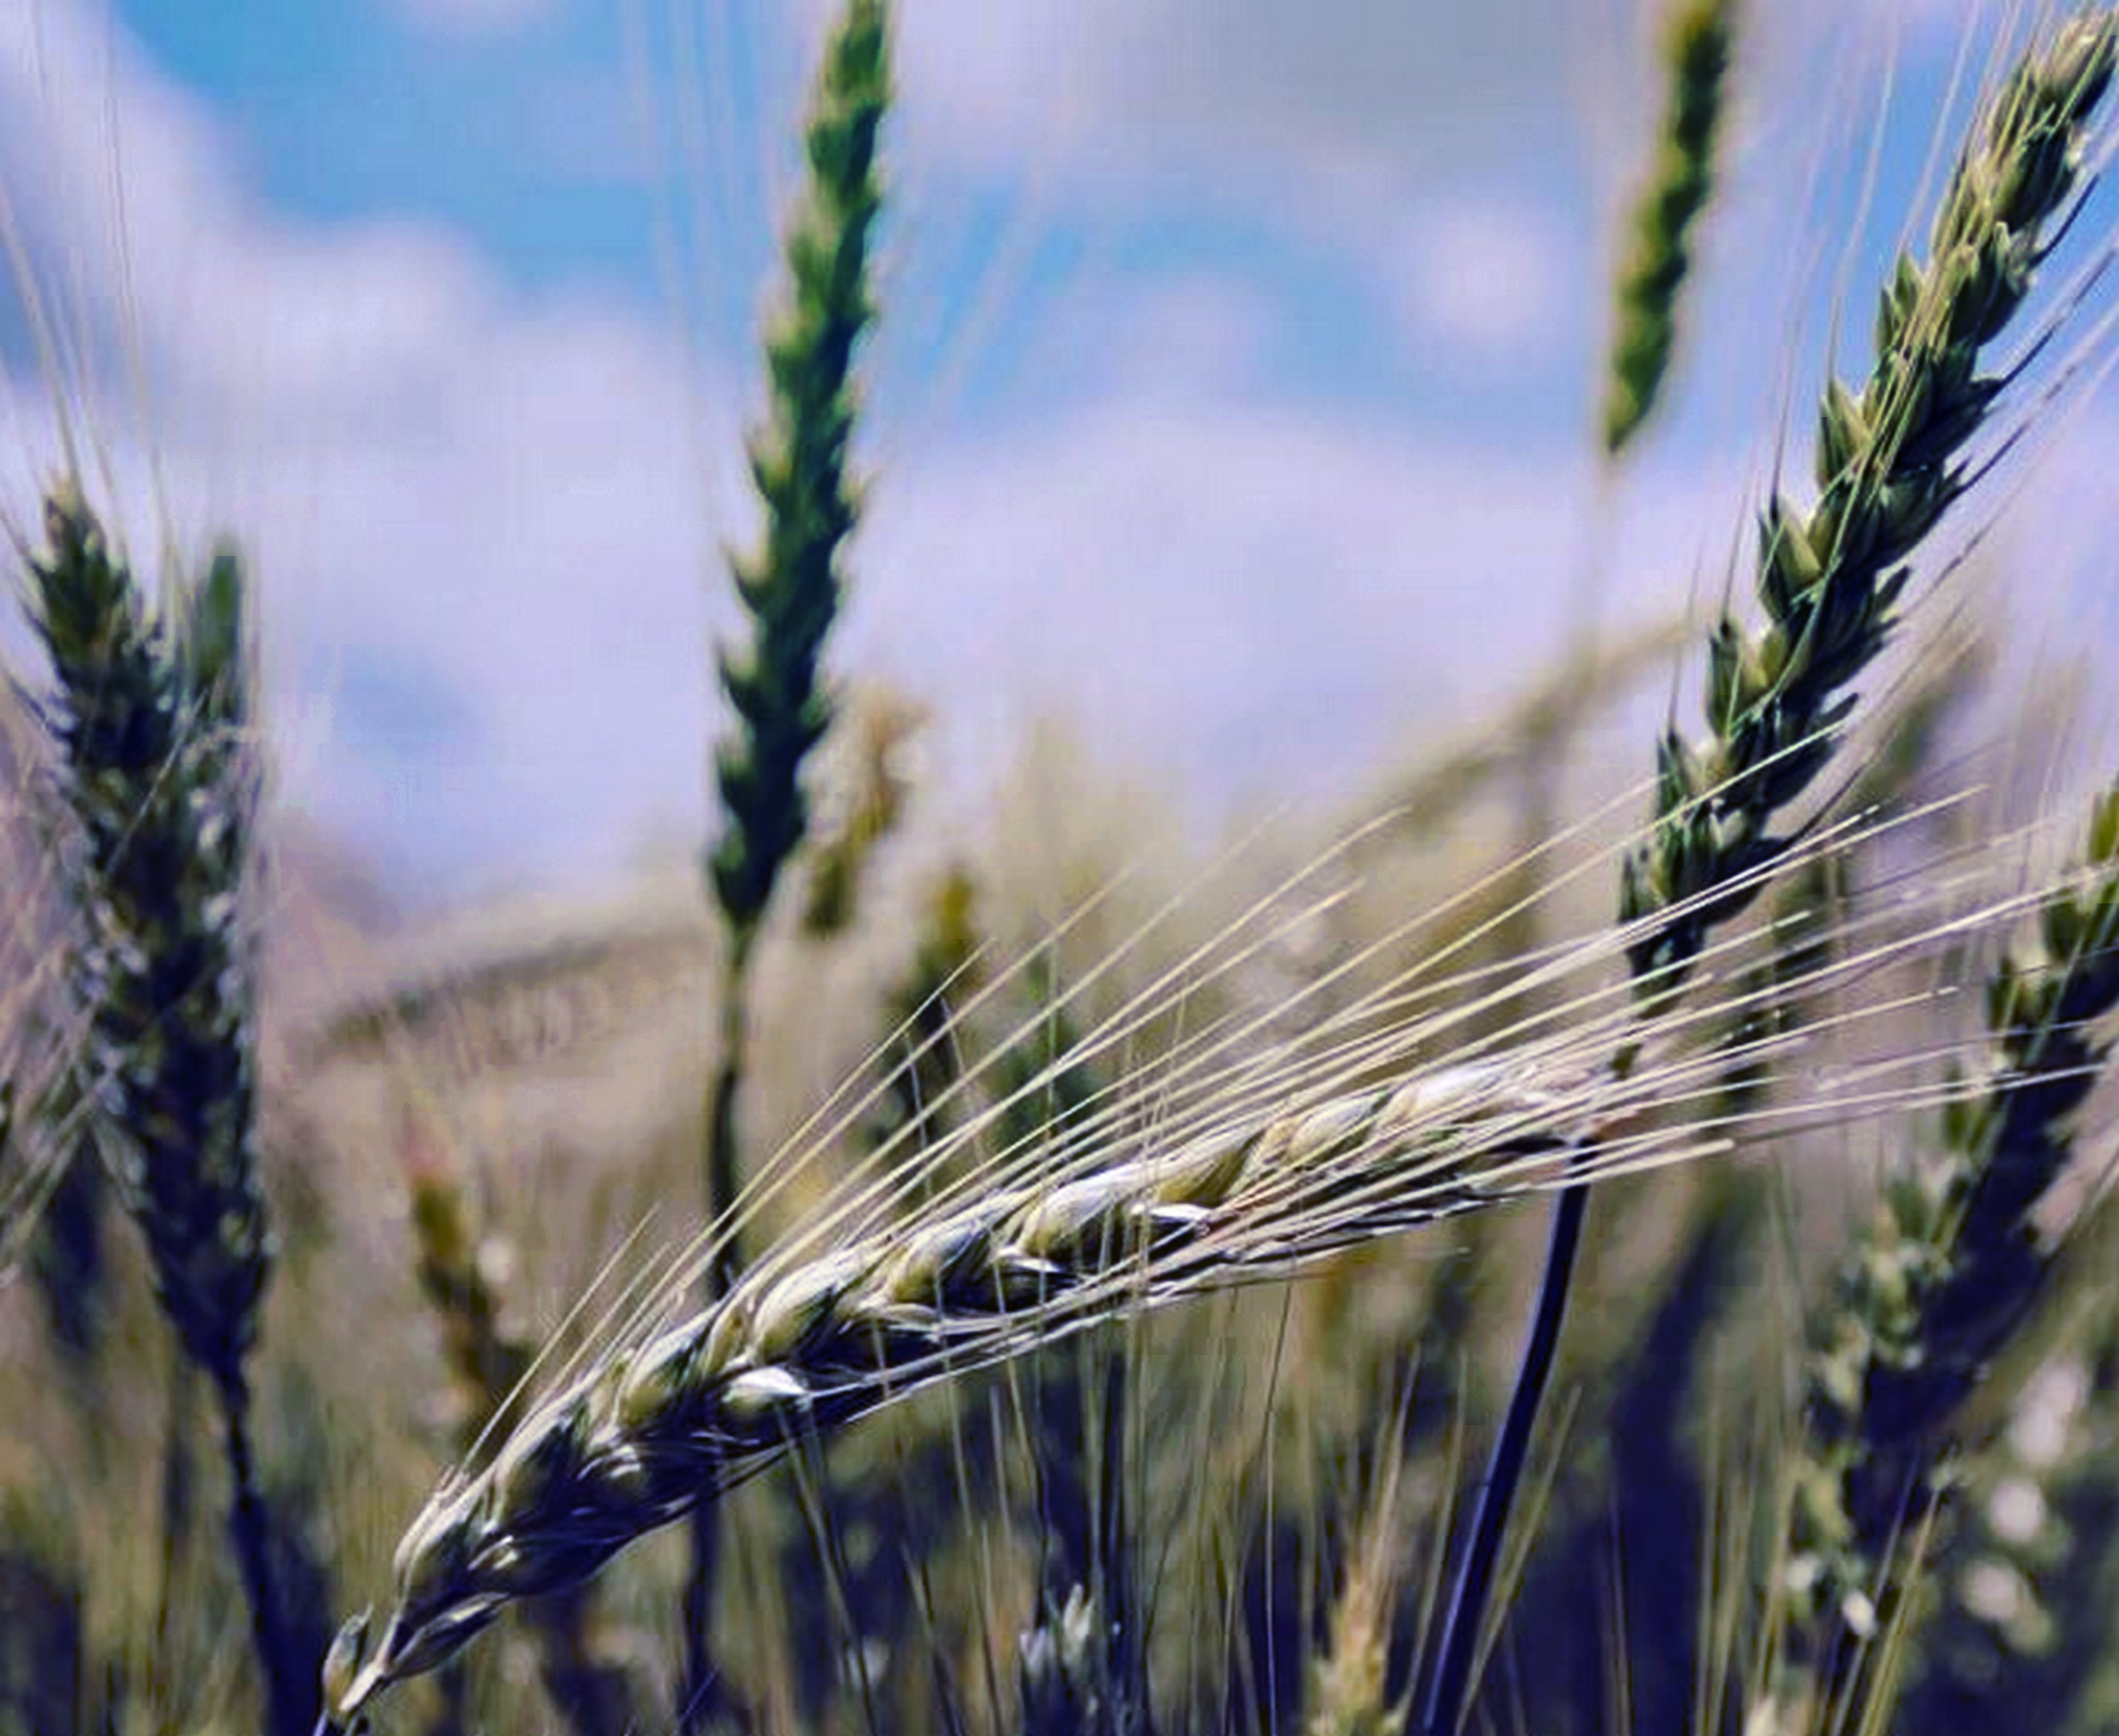Healthy Wheat: (366, 1012, 1675, 1611), (1624, 39, 2119, 961)
